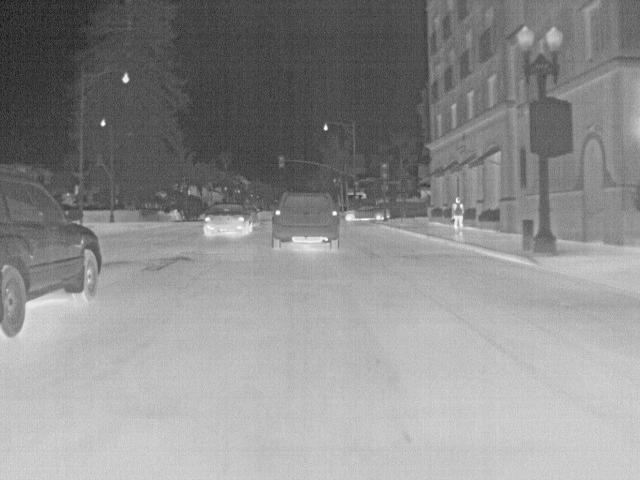car: (0, 170, 106, 338), (270, 188, 339, 252), (200, 201, 254, 238), (341, 203, 390, 222), (244, 203, 261, 228)
person: (450, 195, 466, 240)
